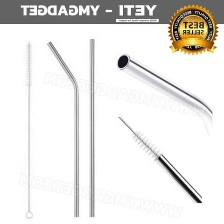drinking_straw: (44, 38, 82, 219), (87, 36, 97, 220)
